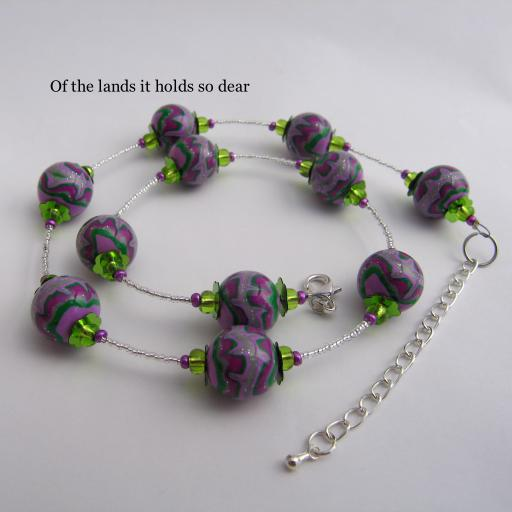Georgia: (50, 79, 250, 92)
